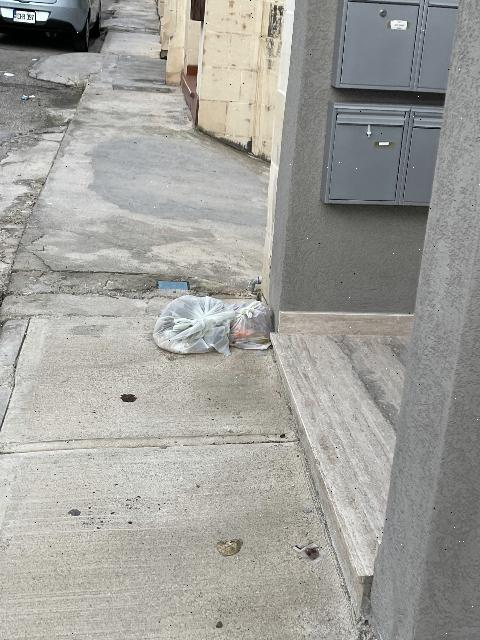Organic -White-: (153, 296, 237, 355), (230, 300, 273, 350)
